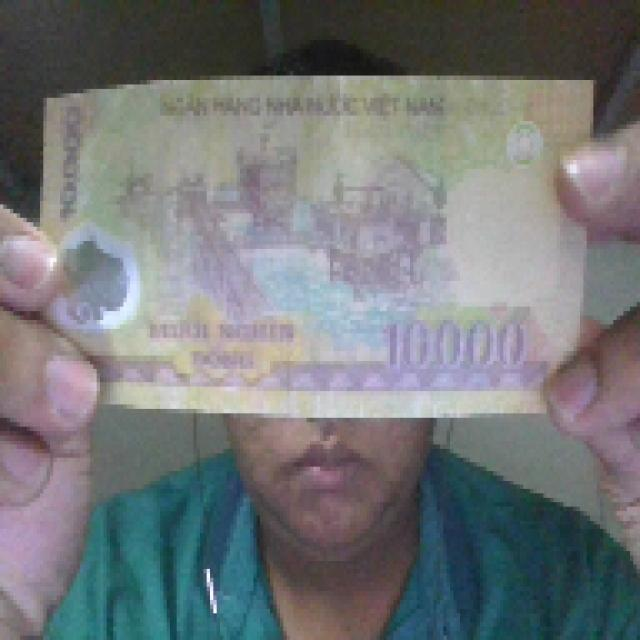10 000 VND: (33, 67, 600, 423)
